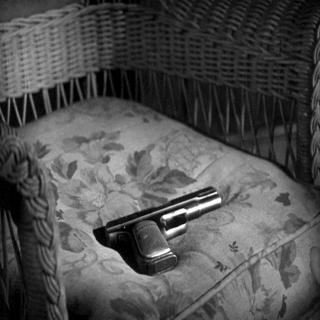gun: (102, 182, 228, 277)
